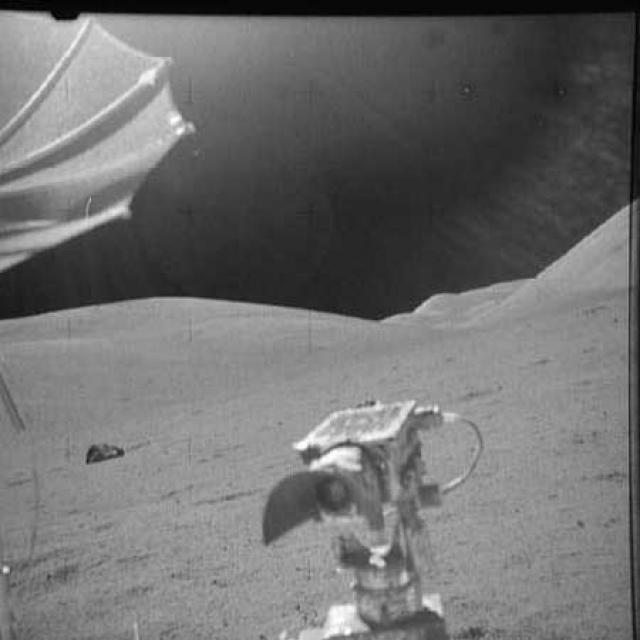artifact: (0, 3, 189, 428), (255, 394, 524, 639)
crater: (188, 477, 270, 503)
rock: (76, 435, 126, 472)
